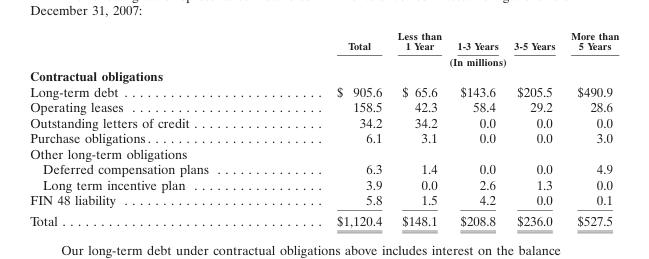table: (29, 29, 618, 228)
table column: (29, 29, 272, 228), (272, 29, 389, 228), (389, 29, 448, 228), (448, 29, 505, 228), (505, 29, 562, 228), (562, 29, 618, 228)
table column header: (29, 29, 618, 67)
table projected row header: (29, 67, 618, 83), (29, 145, 618, 161)
table row: (29, 29, 618, 53), (29, 192, 618, 210), (29, 210, 618, 228), (29, 67, 618, 83), (29, 83, 618, 99), (29, 114, 618, 130), (29, 145, 618, 161), (29, 176, 618, 192), (29, 99, 618, 114), (29, 130, 618, 145), (29, 161, 618, 176), (29, 53, 618, 67)
table spanning cell: (272, 53, 618, 67)
